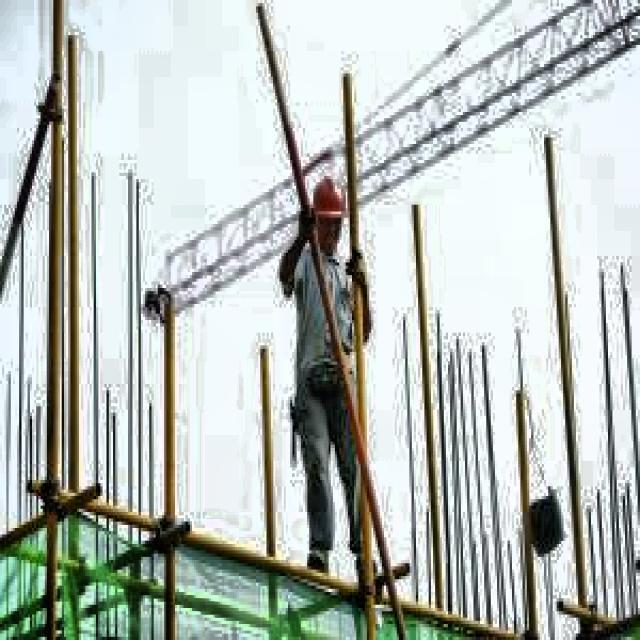helmet: (307, 173, 348, 259)
